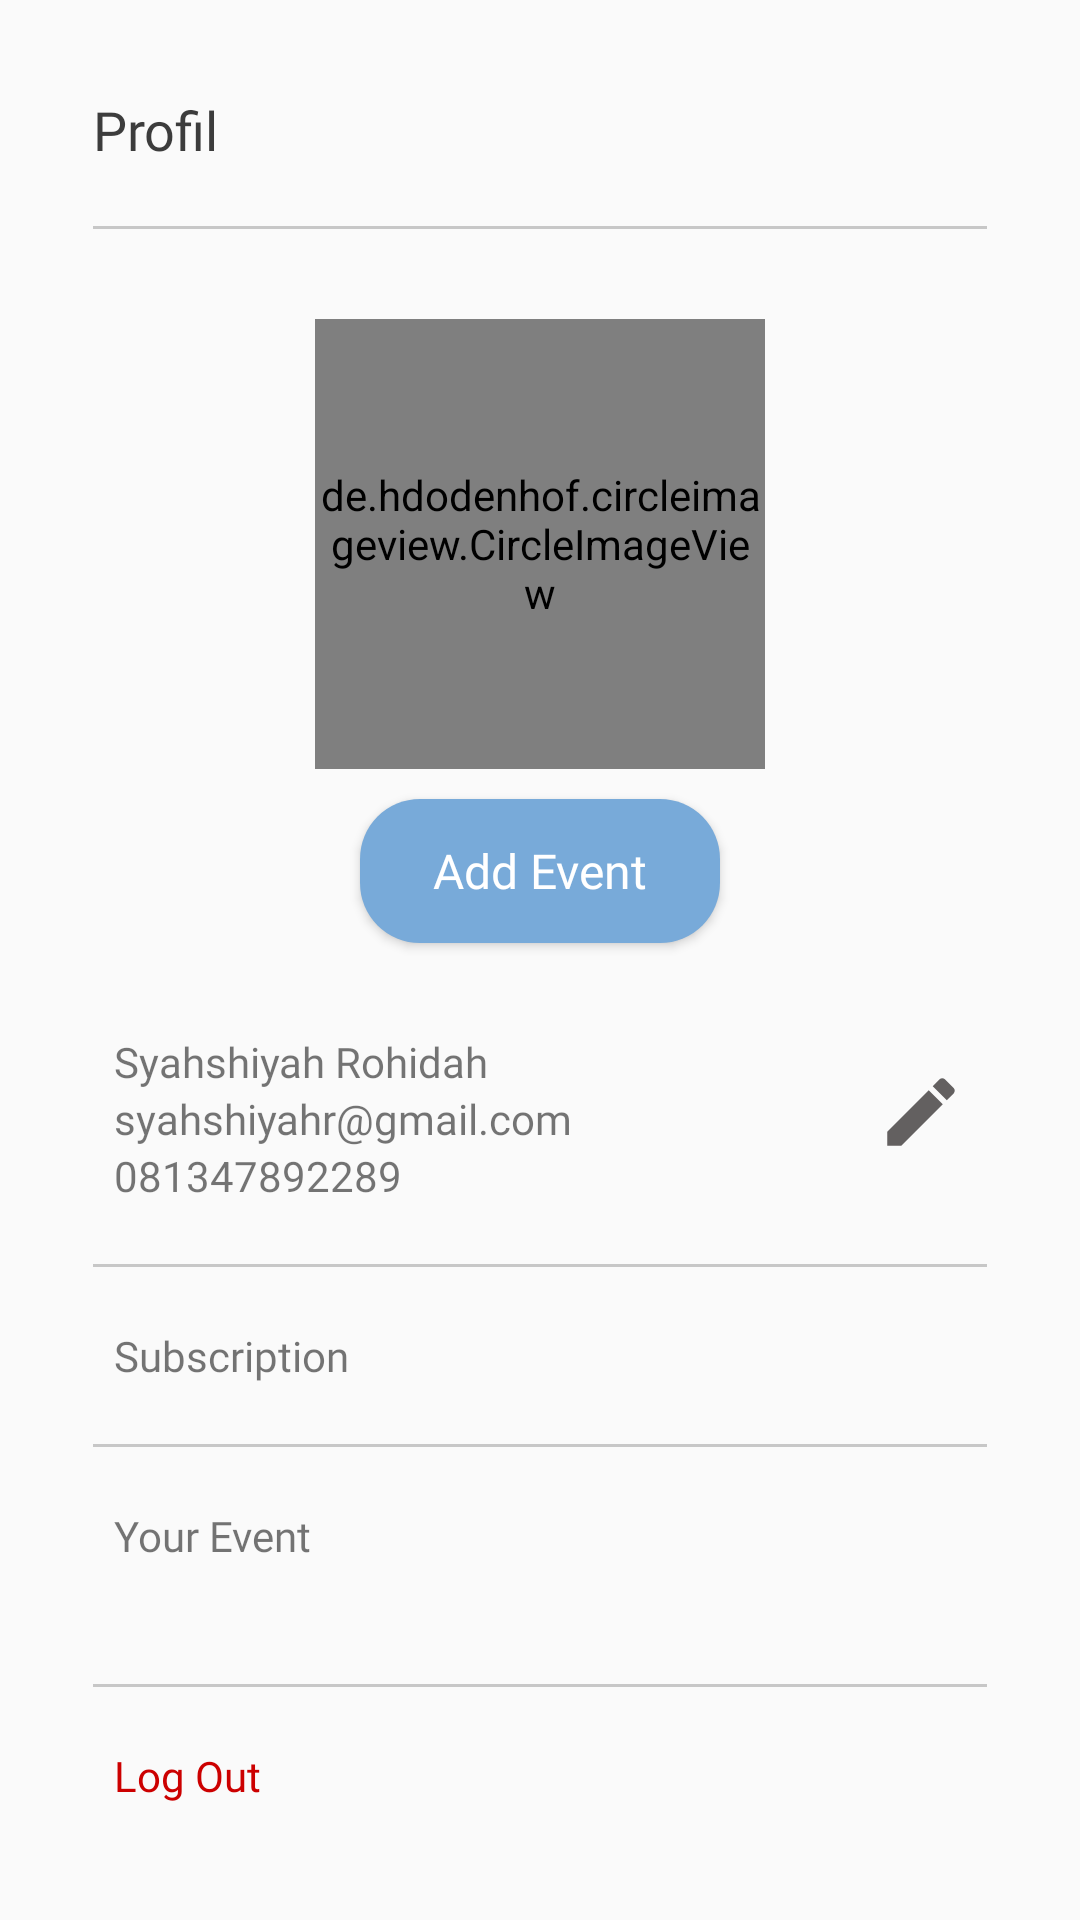

Point at icon controls on the screen. Image size 1080px x 1920px, points as (x,y).
edit: (921,1112)
